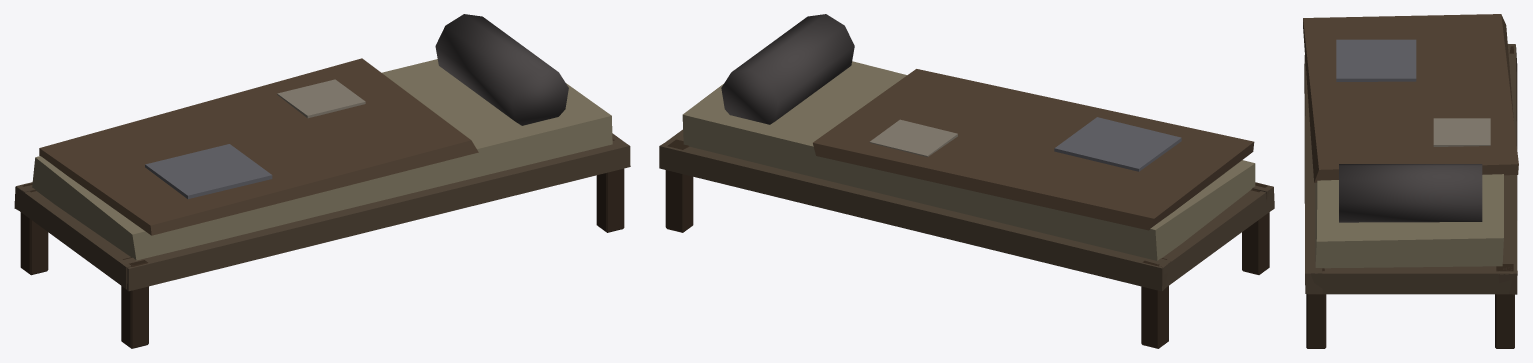
The model's file is father_cot.glb.
3 views of the same model, side by side, from view 1: azimuth 30°, elevation 25°; view 2: azimuth 150°, elevation 25°; view 3: azimuth 270°, elevation 25° (orthographic). The views are drawn at different scales.
Visible parts, largest first — view 1: father_cot; view 2: father_cot; view 3: father_cot.
Part boxes in pixels (box(x1,y1,x2,y2)): father_cot: box(14, 14, 630, 348); father_cot: box(659, 14, 1274, 348); father_cot: box(1303, 14, 1518, 348).
Size of what is drawn, in the model's own units: 1.91 by 0.59 by 0.7545.
